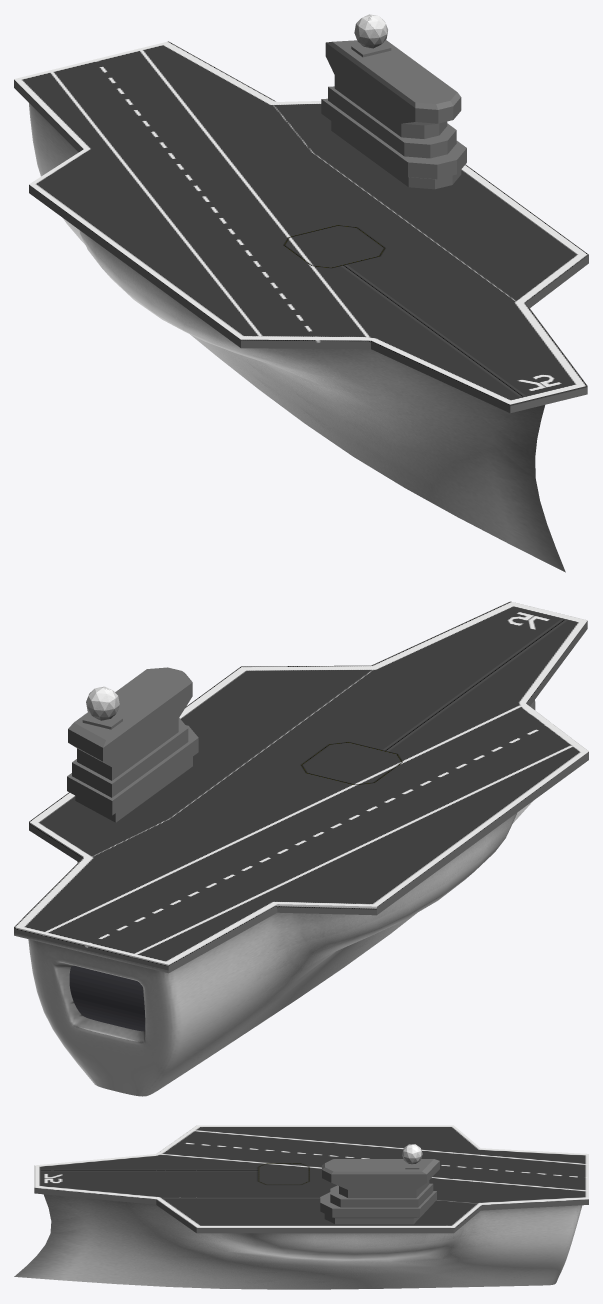
Rendered from carrier.obj.
3 renders of one model, top to bottom at view 1: azimuth 30°, elevation 25°; view 2: azimuth 150°, elevation 25°; view 3: azimuth 270°, elevation 25°, orthographic. The views are drawn at different scales.
Parts seen in each view (by area): view 1: Deck_Deck_Deck_carrier.png, Hull_Hull_Hull_carrier.png, DeckTower_DeckTower_DeckTower_carrier.png, Radom_Radom_Radom_carrier.png; view 2: Deck_Deck_Deck_carrier.png, Hull_Hull_Hull_carrier.png, DeckTower_DeckTower_DeckTower_carrier.png, BayDoor_BayDoor_BayDoor, Radom_Radom_Radom_carrier.png; view 3: Deck_Deck_Deck_carrier.png, Hull_Hull_Hull_carrier.png, DeckTower_DeckTower_DeckTower_carrier.png, Radom_Radom_Radom_carrier.png.
Boxes of the visible parts, box(x1,y1,x2,y2) form: Deck_Deck_Deck_carrier.png: box(14, 41, 588, 413); Hull_Hull_Hull_carrier.png: box(29, 103, 565, 572); DeckTower_DeckTower_DeckTower_carrier.png: box(321, 40, 466, 189); Radom_Radom_Radom_carrier.png: box(354, 14, 387, 48); Deck_Deck_Deck_carrier.png: box(14, 601, 588, 973); Hull_Hull_Hull_carrier.png: box(28, 700, 535, 1096); DeckTower_DeckTower_DeckTower_carrier.png: box(67, 667, 198, 822); BayDoor_BayDoor_BayDoor: box(69, 965, 145, 1031); Radom_Radom_Radom_carrier.png: box(86, 686, 119, 720); Deck_Deck_Deck_carrier.png: box(34, 1125, 588, 1233); Hull_Hull_Hull_carrier.png: box(14, 1194, 582, 1289); DeckTower_DeckTower_DeckTower_carrier.png: box(320, 1159, 439, 1224); Radom_Radom_Radom_carrier.png: box(402, 1144, 422, 1163).
Size of the model in its own units: 61.92 by 48.23 by 146.
6 materials, 4 textured.
